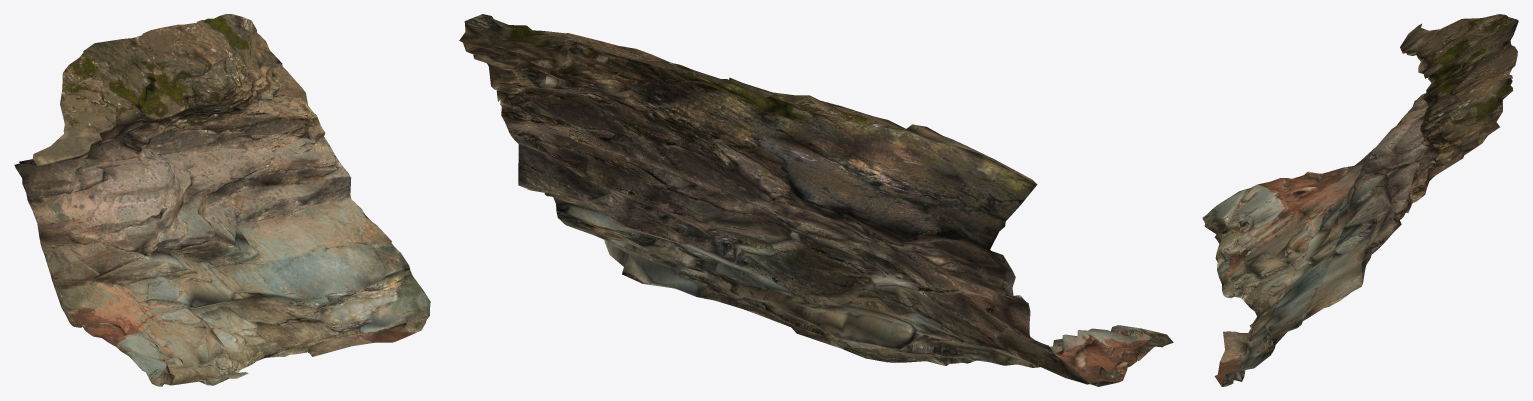
Rendered from rock_face_01-lod1.glb.
3 renders of one model, left to right at view 1: azimuth 30°, elevation 25°; view 2: azimuth 150°, elevation 25°; view 3: azimuth 270°, elevation 25°, orthographic. The views are drawn at different scales.
Parts seen in each view (by area): view 1: rock_face_01; view 2: rock_face_01; view 3: rock_face_01.
Boxes of the visible parts, x1,y1,x2,y2 form: rock_face_01: (14,14,430,386); rock_face_01: (459,14,1173,386); rock_face_01: (1202,14,1518,386).
Bounding box in the file's own units: 4.94 × 3.56 × 3.82.
1 material, 1 textured.
